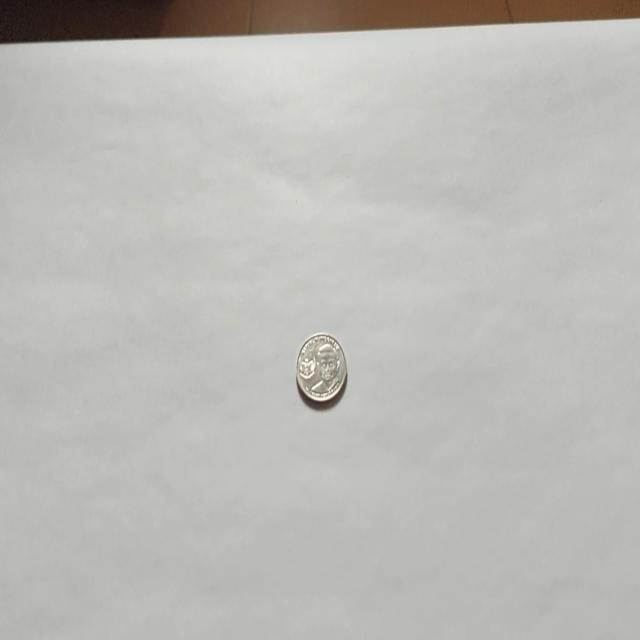seribu rupiah koin: (294, 330, 348, 406)
